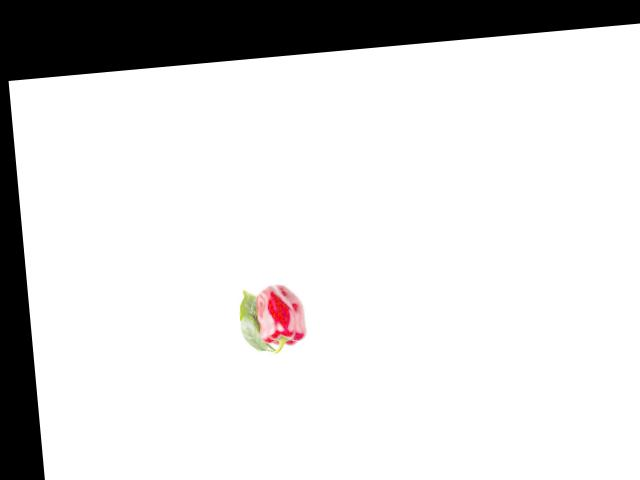bell_pepper: (251, 279, 314, 354)
